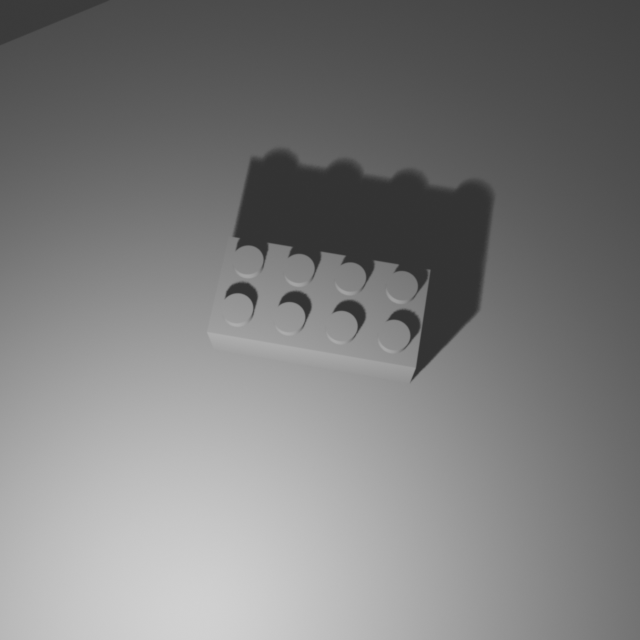lego_2x4: (206, 232, 432, 383)
